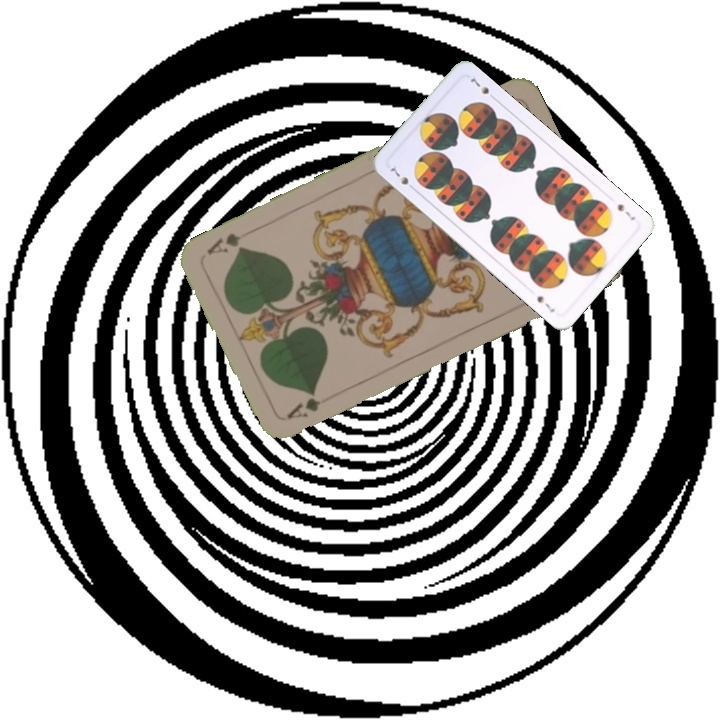GA: (282, 392, 338, 422)
S7: (386, 163, 418, 193), (613, 200, 638, 223)
